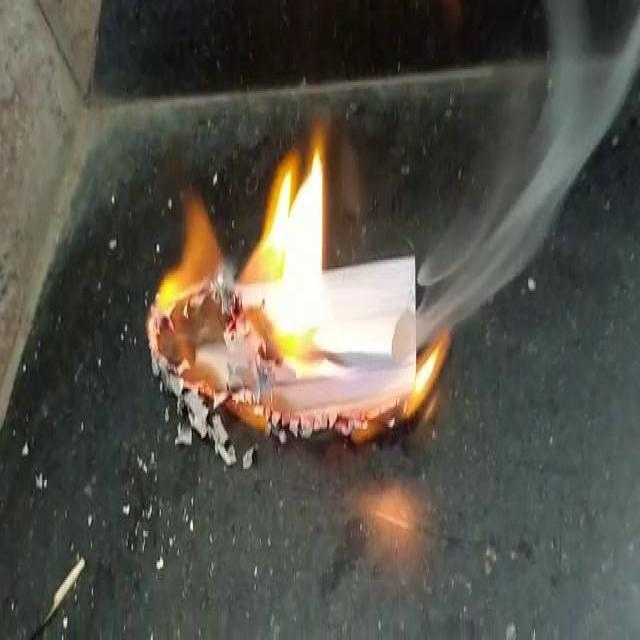Fire: (158, 139, 332, 365), (402, 332, 456, 425)
Smoke: (442, 42, 616, 320)
